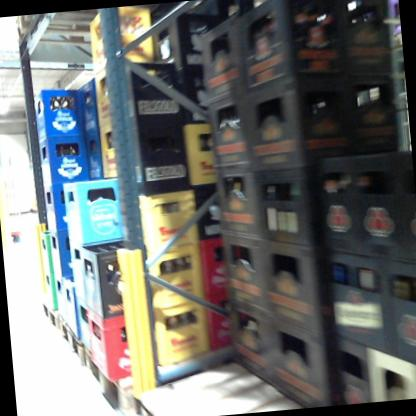pallet: (130, 342, 322, 416), (79, 331, 199, 414), (14, 6, 159, 59), (56, 307, 87, 368), (37, 294, 72, 344)
